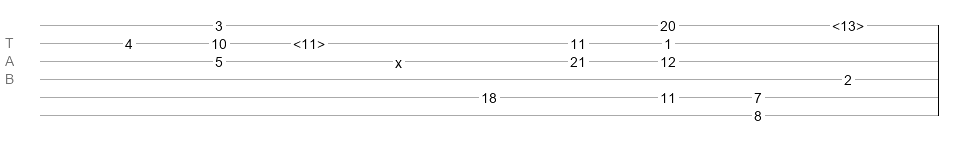1: (664, 36, 672, 46)
10: (211, 36, 227, 46)
11: (570, 36, 586, 46), (660, 90, 676, 100)
12: (660, 54, 676, 64)
18: (481, 90, 497, 100)
2: (844, 72, 852, 82)
20: (660, 18, 676, 28)
21: (570, 54, 586, 64)
3: (215, 18, 223, 28)
4: (125, 36, 133, 46)
5: (215, 54, 223, 64)
7: (754, 90, 762, 100)
8: (754, 108, 762, 118)
harmonic: (293, 36, 325, 46), (832, 18, 864, 28)
x: (395, 55, 402, 63)
